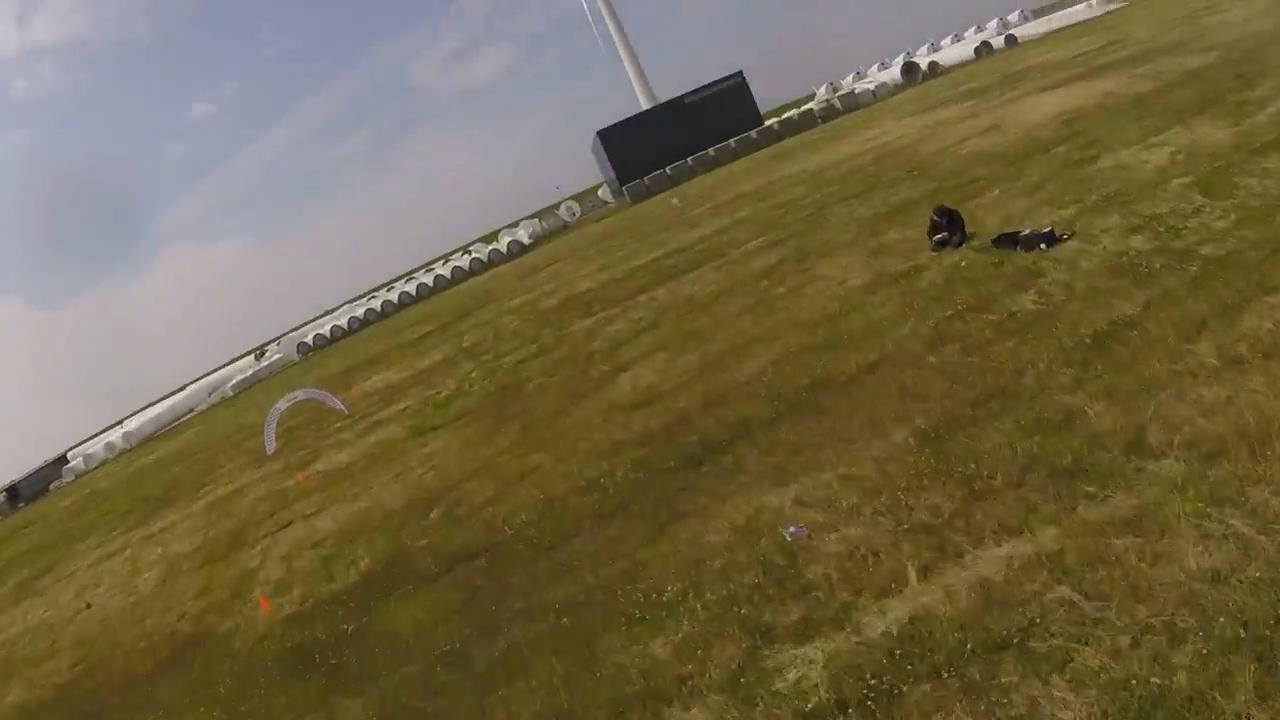gate: (262, 386, 347, 454)
